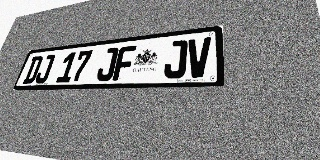1: (56, 52, 79, 83)
7: (70, 50, 93, 82)
D: (22, 56, 44, 84)
F: (112, 45, 136, 81)
J: (163, 39, 188, 79), (95, 47, 119, 81), (34, 54, 56, 84)
V: (186, 37, 211, 78)
